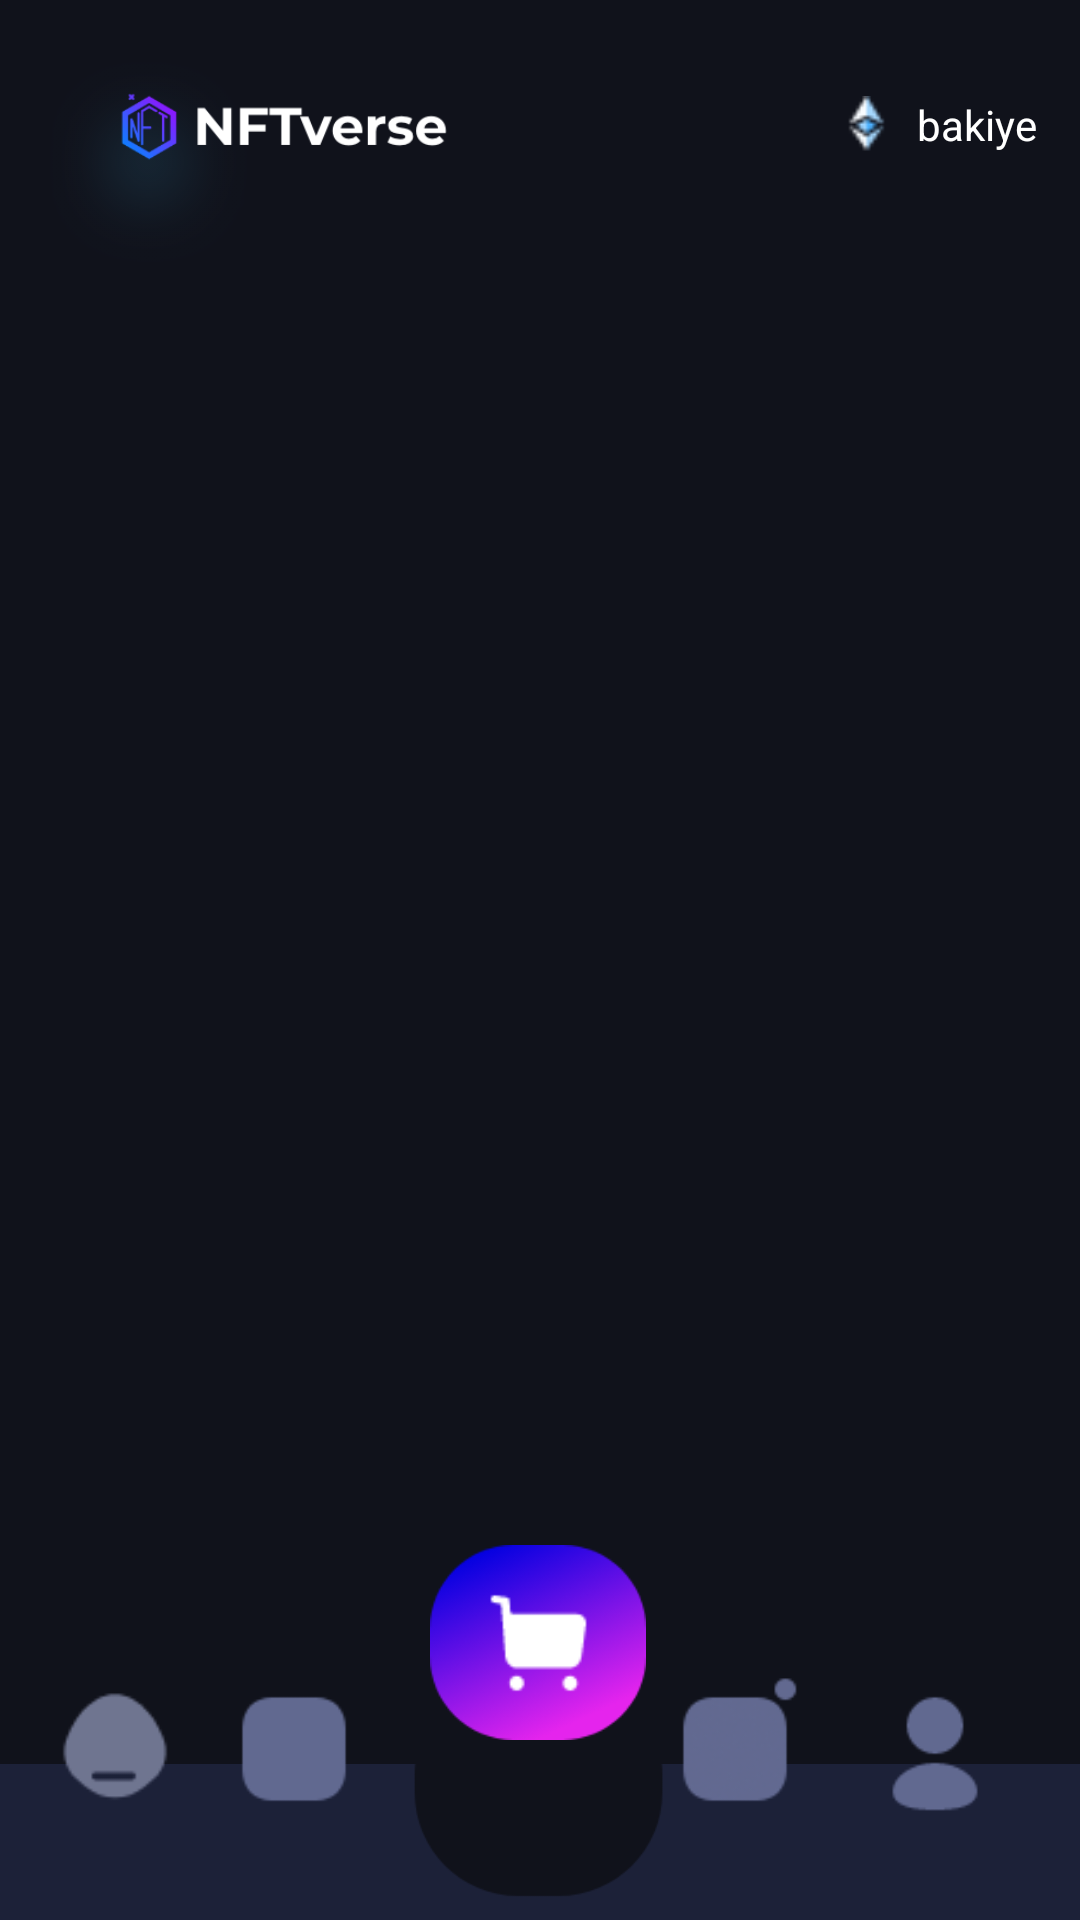

Point at icon controls on the screen. Image size 1080px x 1920px, points as (x=x, y=y).
profile: (x=935, y=1749)
